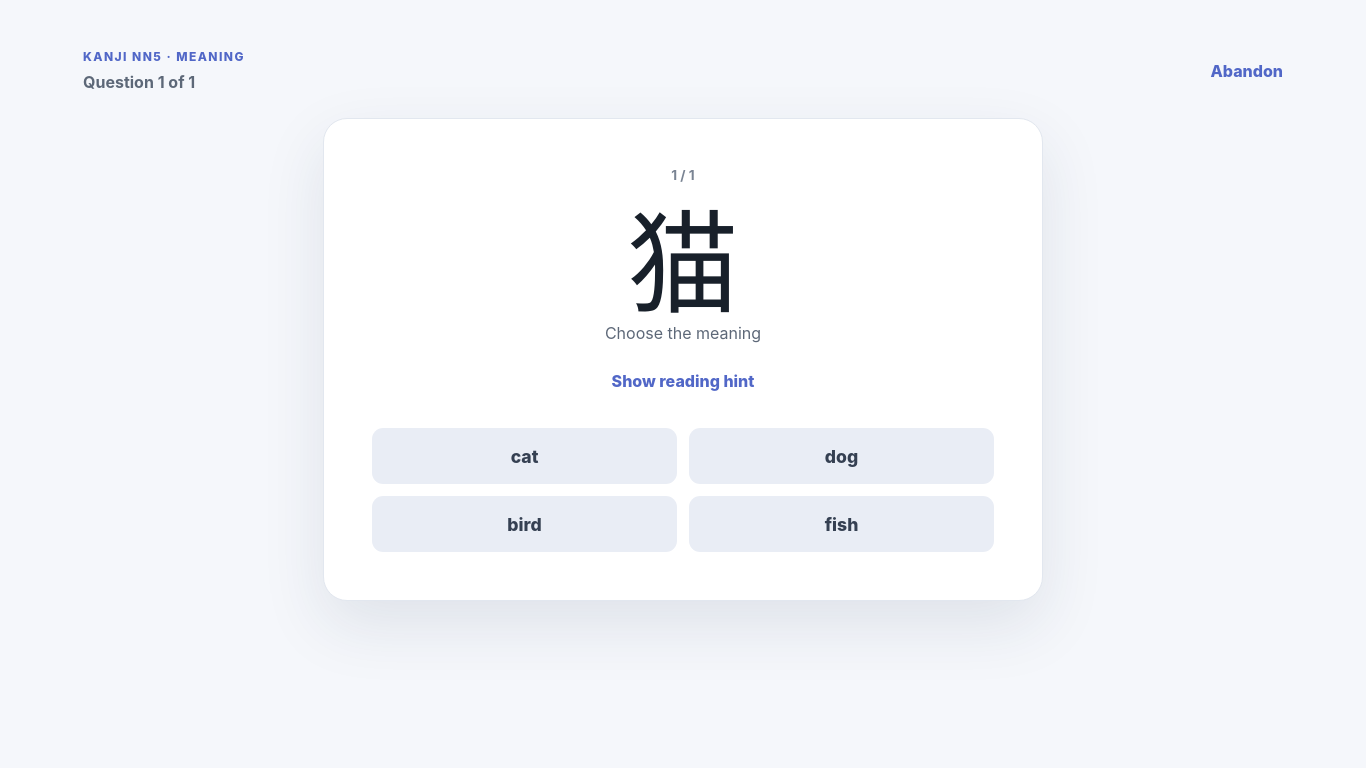
TestView › does not reveal the meaning-exercise reading after an answer unless requested as a hint
Click the button with class "kanji-answer-option" showing "cat" at (524, 456), box [372,428,677,484]
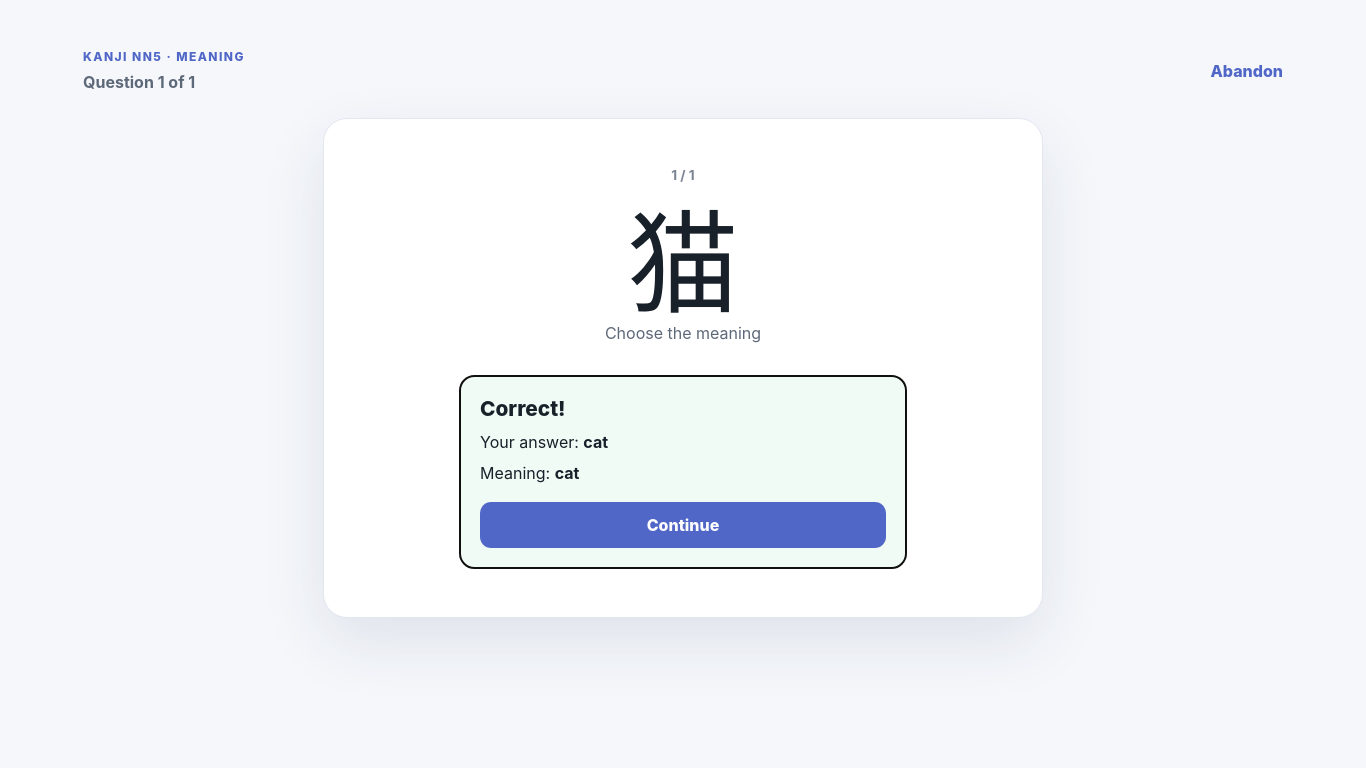
Expected: the text "Correct!" is shown, [480,396,566,421]
